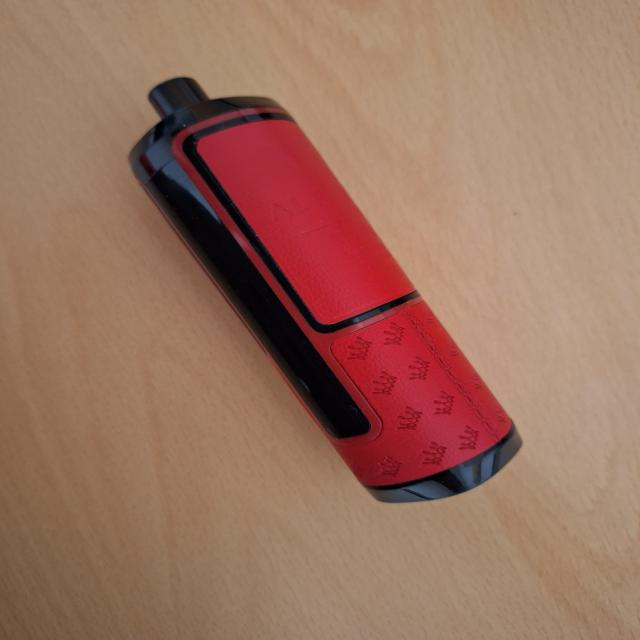Hazard: (127, 76, 523, 503)
